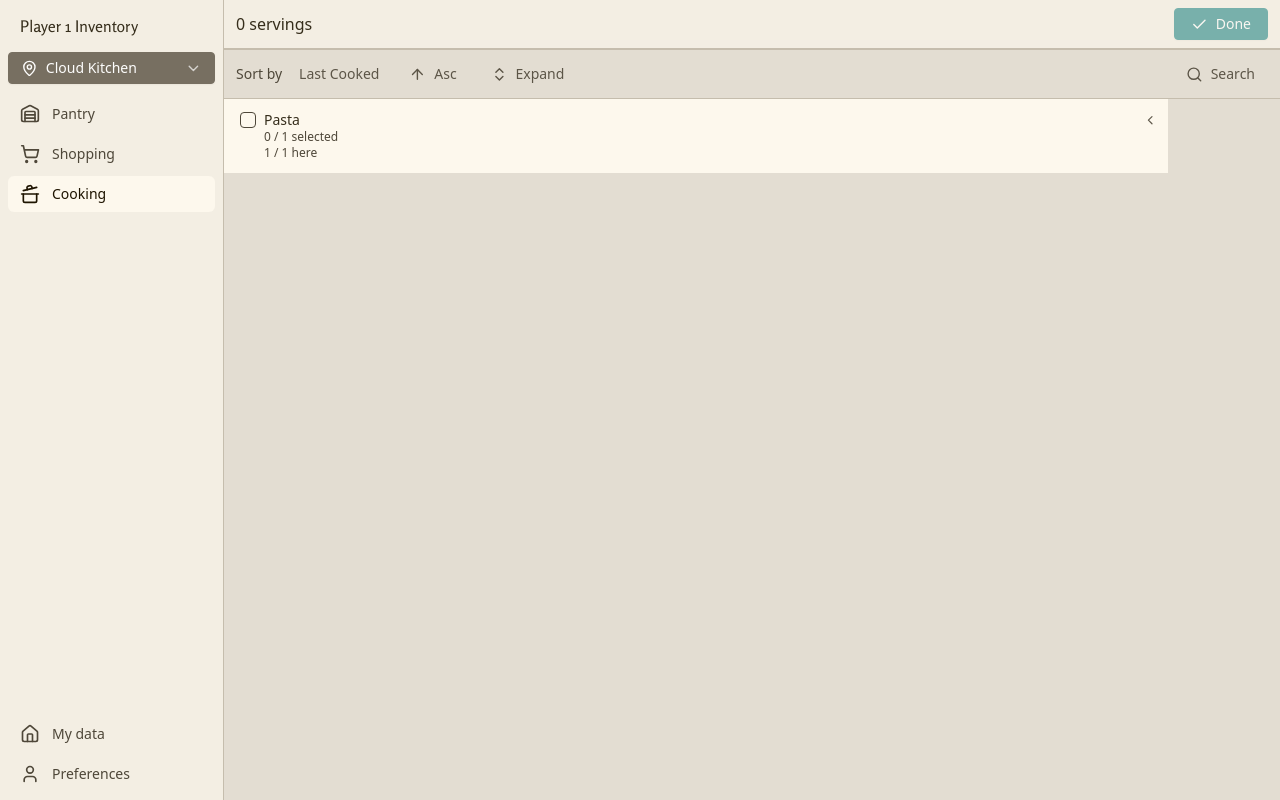
Scenario: Use (Cooking) Page — cloud mode › user can check a recipe item in cloud mode
Click the button named "Expand Pasta": (1150, 120) [1136,106,1164,134]
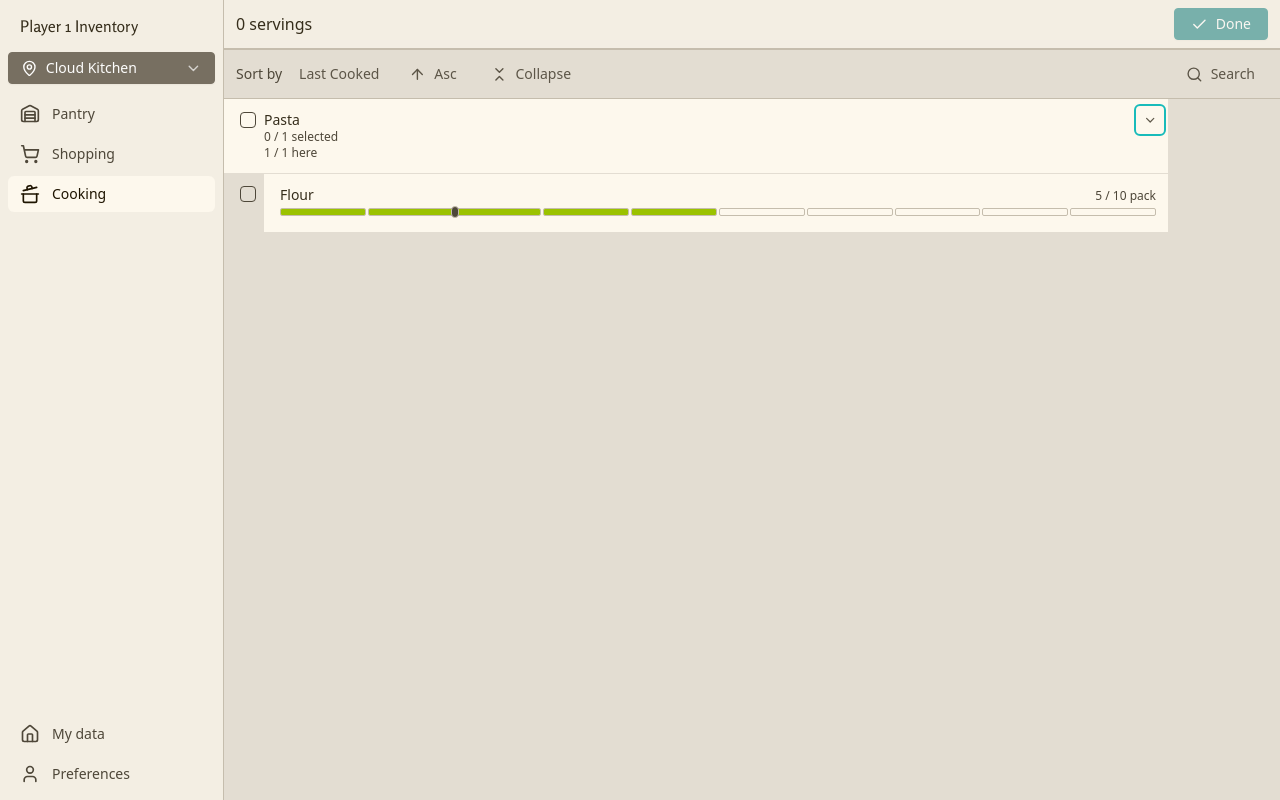
Check: the heading "Flour" is shown, box [280,186,314,203]
// And checking the recipe checks its item, enabling Done
Click the checkbox named "Pasta": (248, 120) [240,112,256,128]
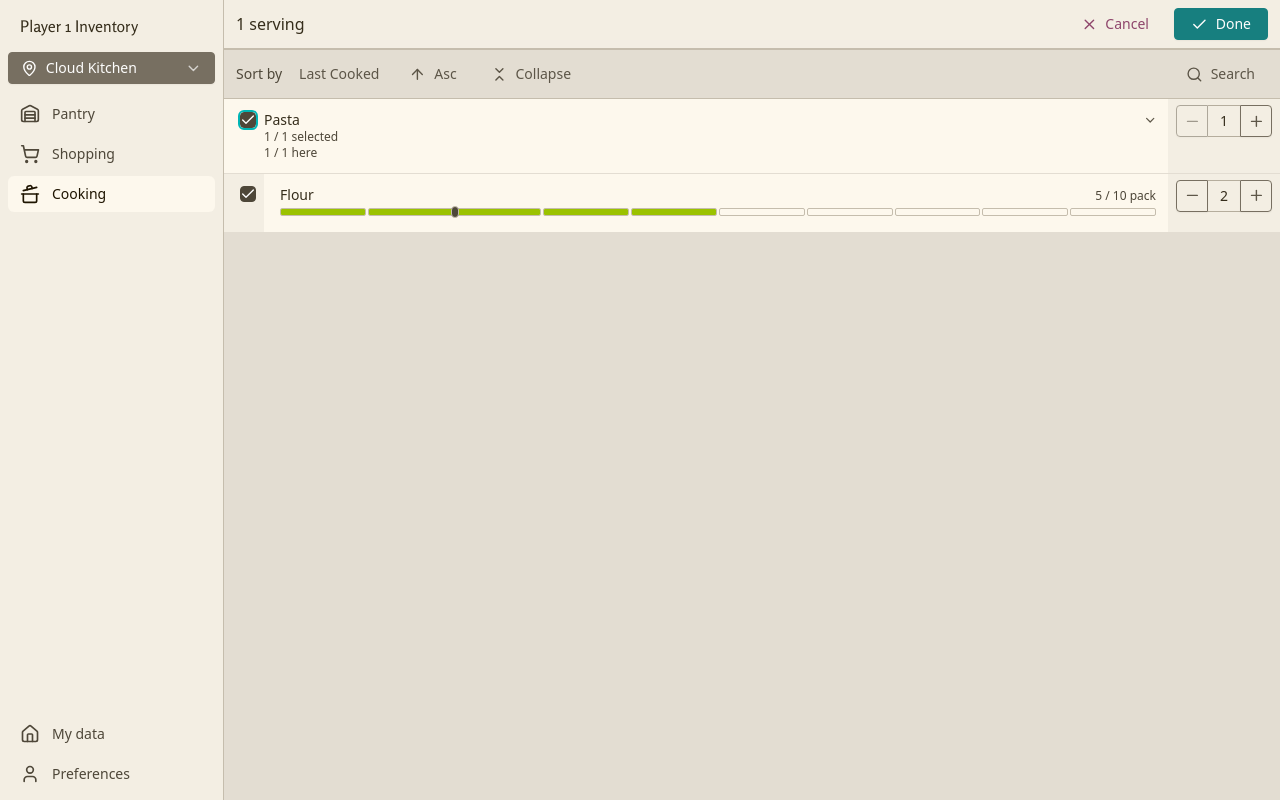
Check: the button "Done" is enabled, box [1174,8,1268,40]
